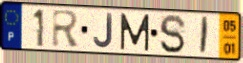1: (32, 8, 45, 48)
I: (199, 15, 211, 56)
J: (92, 13, 115, 50)
M: (120, 12, 152, 53)
R: (51, 8, 81, 49)
S: (158, 13, 188, 55)
